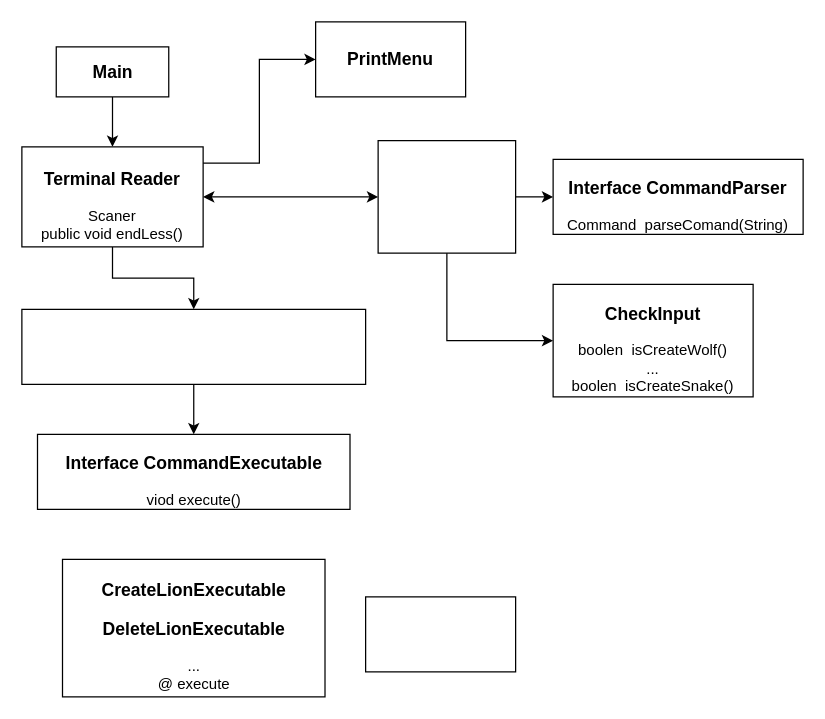
The diagram is 825 pixels wide and 719 high, and some of its shapes have lost their labels. The shapes that lost their labels are listed below. From the top down, each one's centre as x and y in pixels, then its label:
point 446,196: Command action animal parameterAnimal
point 193,346: CommandExecutableFactory public CommandExecutable create (Command)
point 440,634: Zoo
